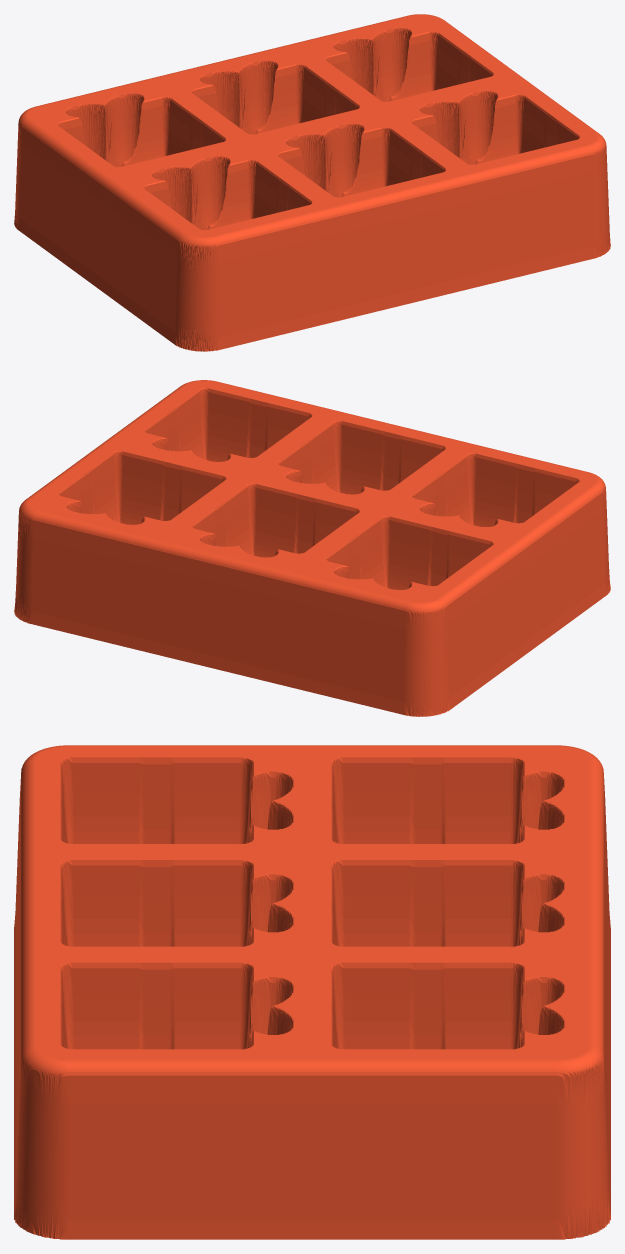
Rendered from mold.glb.
3 views of the same model, one above another, from view 1: azimuth 30°, elevation 25°; view 2: azimuth 150°, elevation 25°; view 3: azimuth 270°, elevation 25° (orthographic). The views are drawn at different scales.
Visible parts, largest first — view 1: geometry_0; view 2: geometry_0; view 3: geometry_0.
Boxes of the visible parts, bbox=[...] form: geometry_0: bbox=[14, 14, 610, 351]; geometry_0: bbox=[14, 380, 610, 716]; geometry_0: bbox=[14, 745, 610, 1239].
Bounding box in the file's own units: 0.1308 × 0.0314 × 0.0996.
